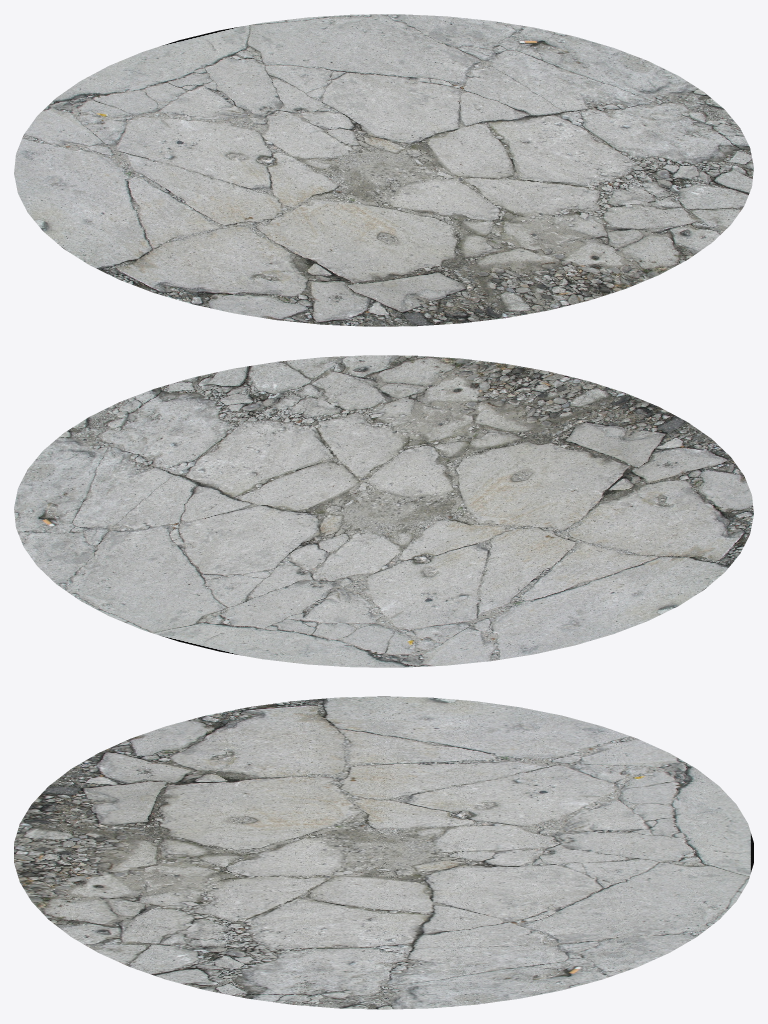
3 renders of one model, top to bottom at view 1: azimuth 30°, elevation 25°; view 2: azimuth 150°, elevation 25°; view 3: azimuth 270°, elevation 25°, orthographic.
Visible parts, largest first — view 1: circle_01; view 2: circle_01; view 3: circle_01.
Boxes of the visible parts, bbox=[...] form: circle_01: bbox=[14, 14, 753, 326]; circle_01: bbox=[14, 355, 753, 667]; circle_01: bbox=[14, 696, 753, 1009].
Bounding box in the file's own units: 1800 × 0 × 1796.
